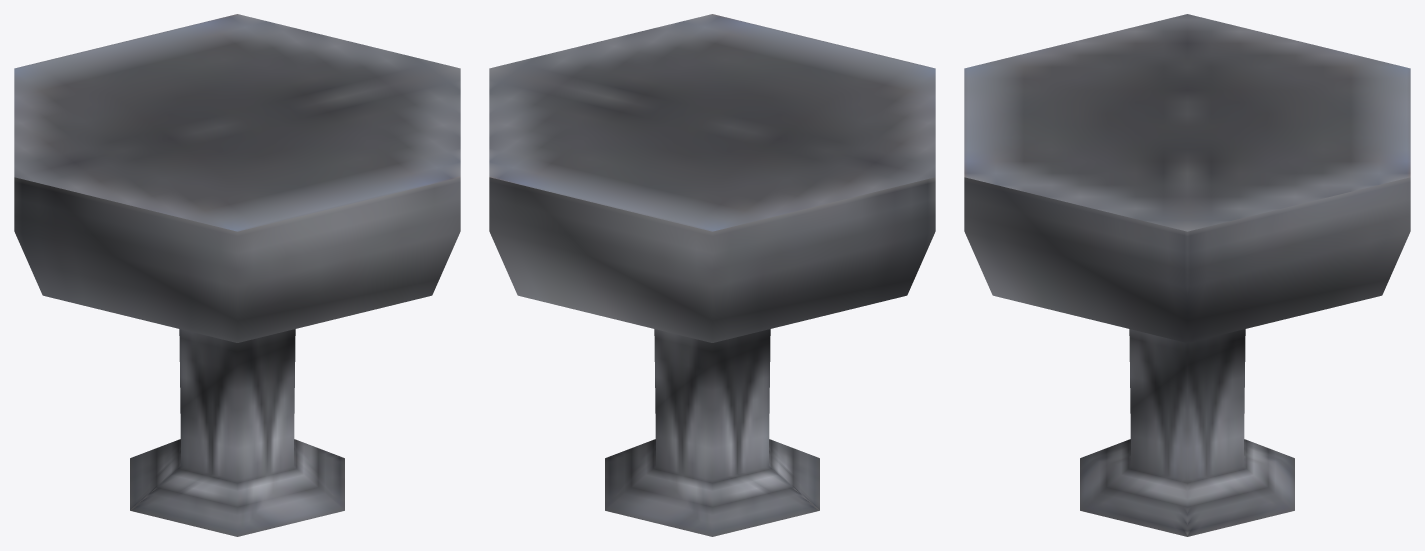
Rendered from all_mine_prop_18.FBX.
3 renders of one model, left to right at view 1: azimuth 30°, elevation 25°; view 2: azimuth 150°, elevation 25°; view 3: azimuth 270°, elevation 25°, orthographic.
Parts seen in each view (by area): view 1: all_mine_prop_017; view 2: all_mine_prop_017; view 3: all_mine_prop_017.
Boxes of the visible parts, x1,y1,x2,y2 form: all_mine_prop_017: [14, 14, 460, 536]; all_mine_prop_017: [489, 14, 935, 536]; all_mine_prop_017: [964, 14, 1410, 536].
Size of the model in its own units: 16.85 by 13.05 by 14.59.
